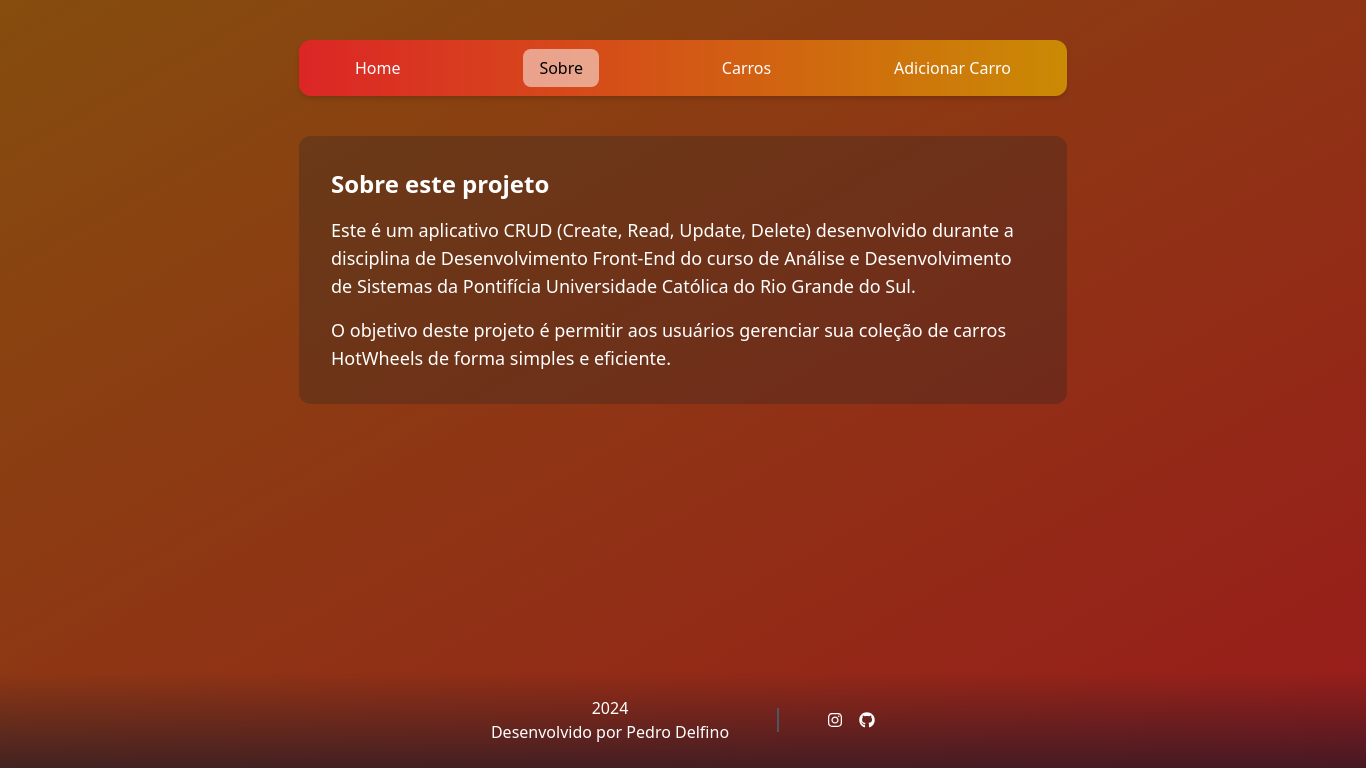
Test: App Navigation › should navigate to Cars page
Click the link to "/carros" at (747, 68), box [722, 57, 771, 79]
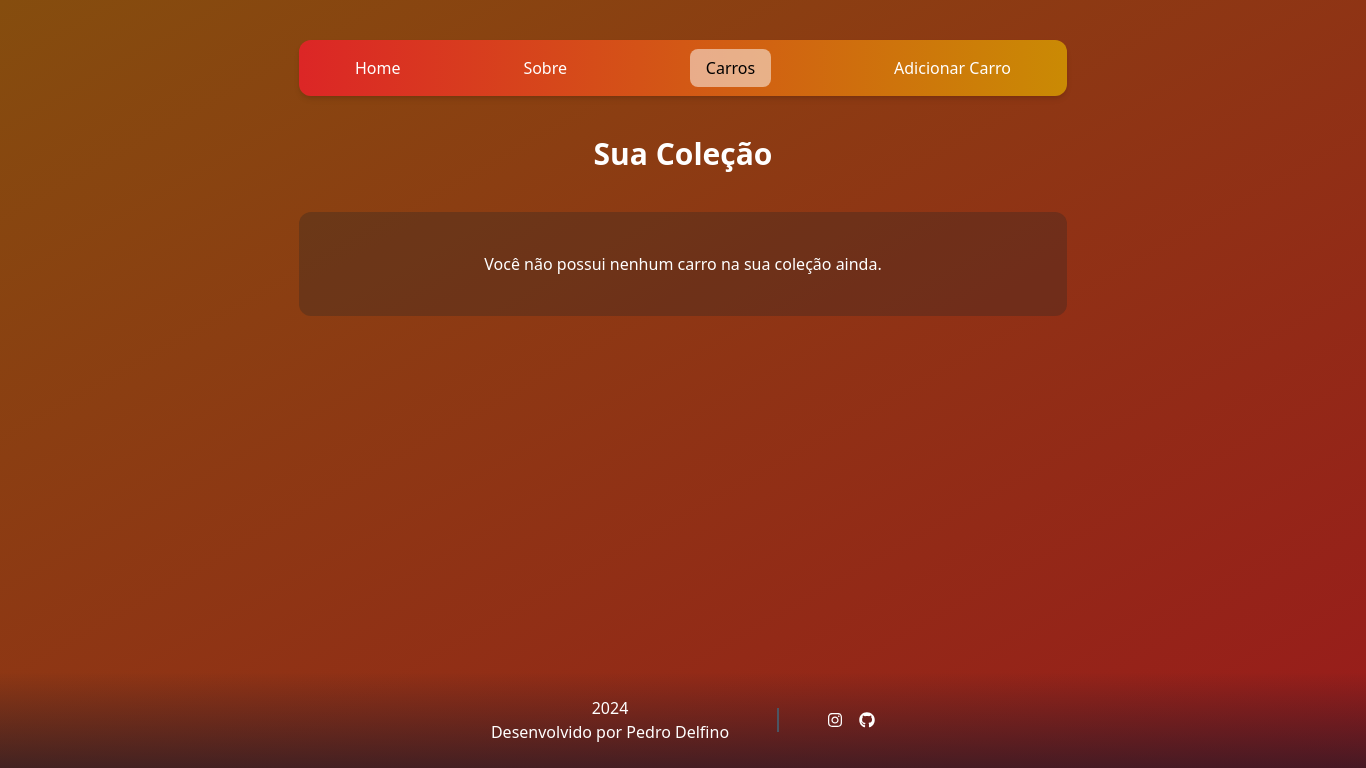
Now the heading "Sua Coleção" is shown, box [594, 133, 772, 174]
